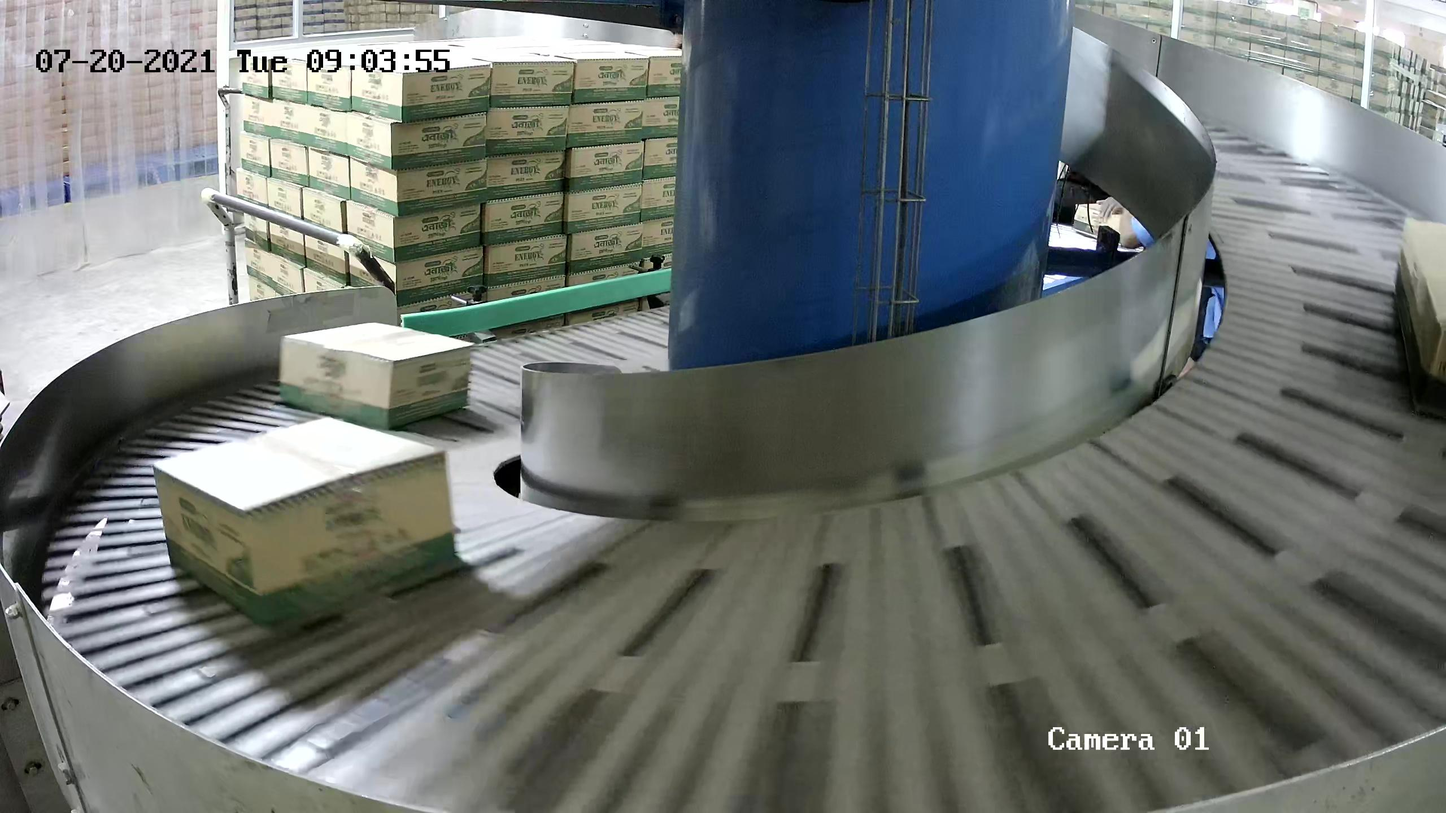Box: (150, 414, 463, 632), (277, 322, 475, 431), (1390, 216, 1446, 423)
